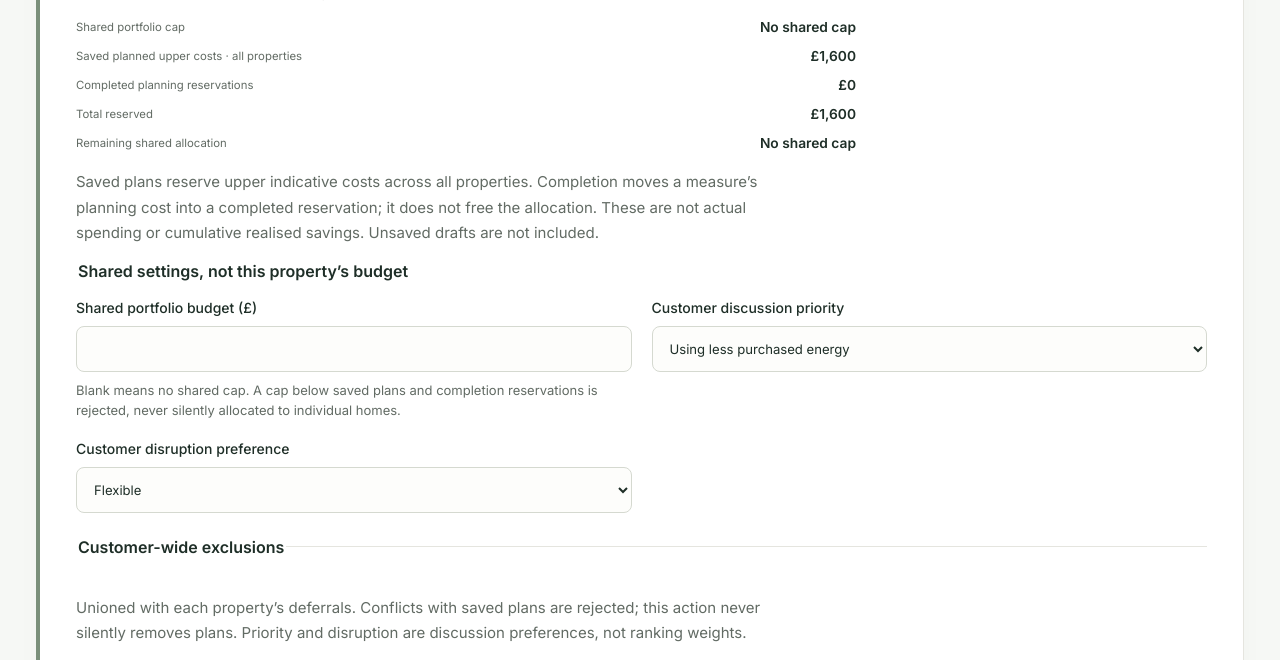
Test: customer-wide settings, independent budgets and asynchronous boundaries › saves customer preferences separately, inherits exclusions without changing raw property budgets
This screenshot has width=1280, height=660.
(page scrolled)
In the number field labelled "Shared portfolio budget (£)": (354, 348) [76,326,632,372], type "25000"
(page scrolled)
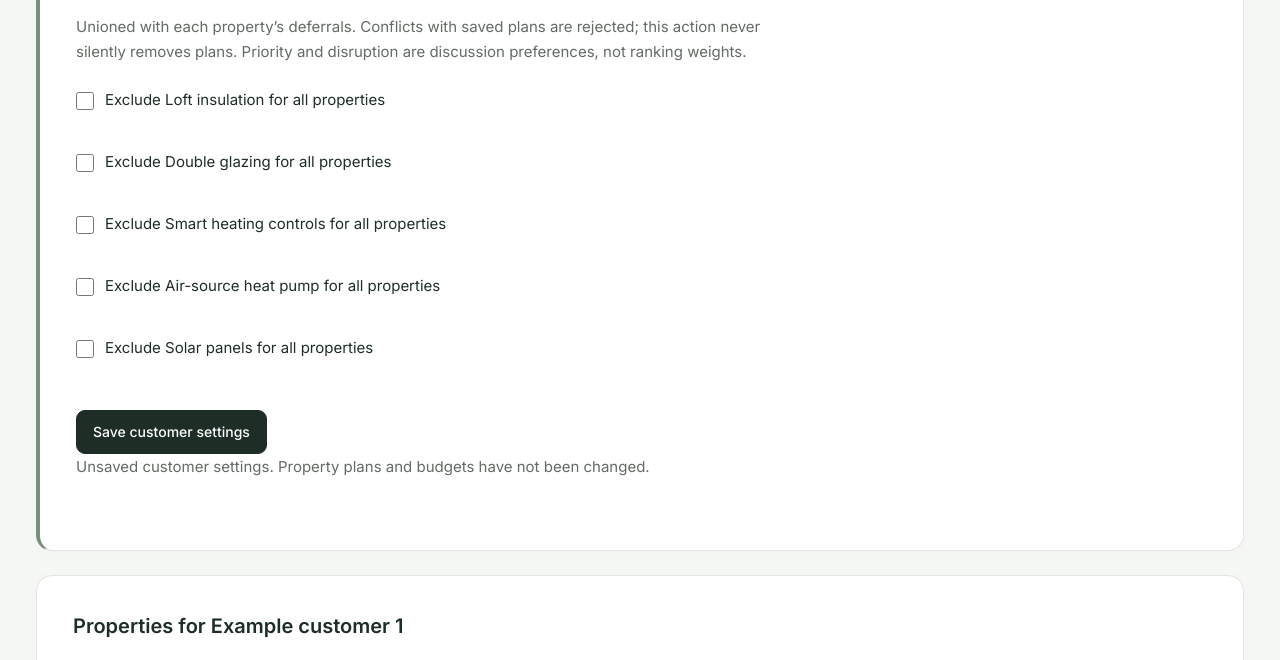
Click the checkbox labelled "Exclude Solar panels for all properties": (85, 349) [76,340,94,358]
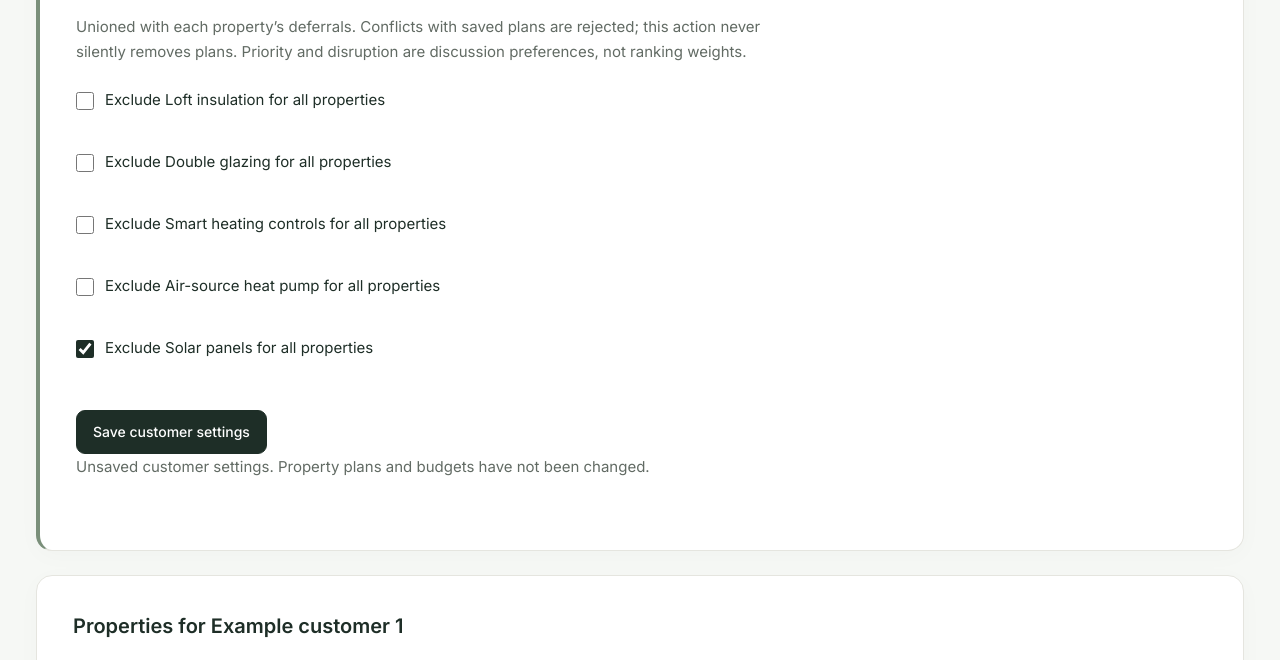
Click the button "Save customer settings": (171, 432) [76,410,267,454]
(page scrolled)
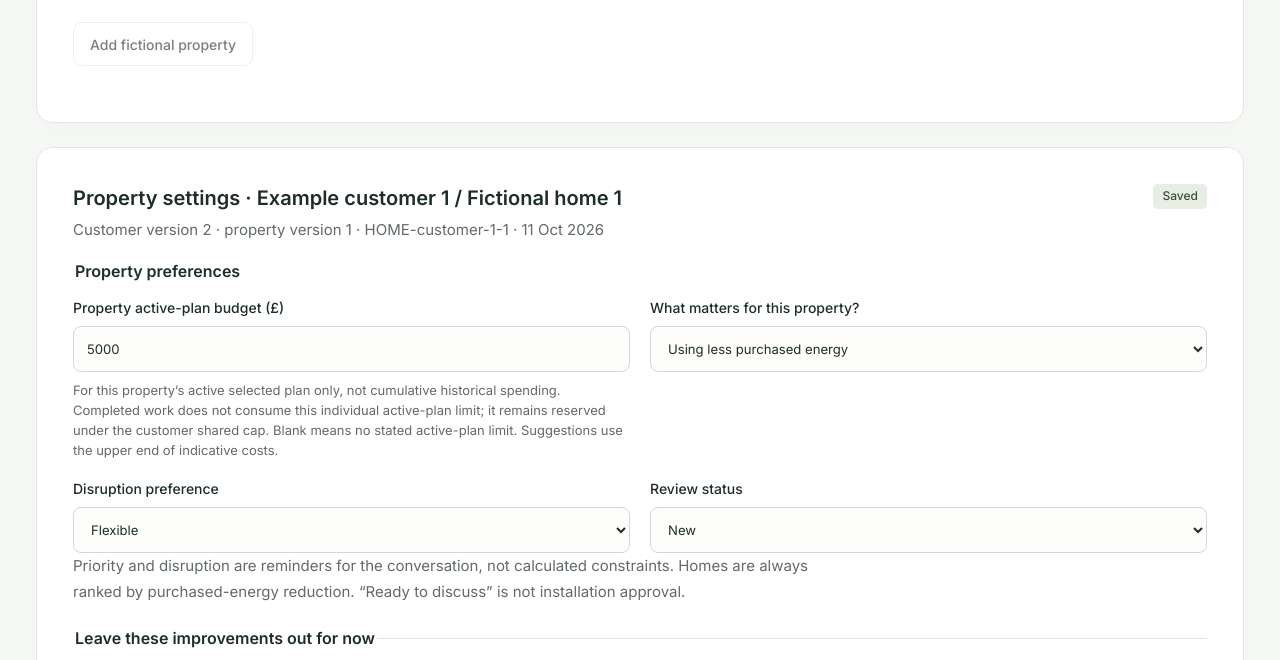
Replace the text in the number field labelled "Property active-plan budget (£)" with "6000": (352, 348) [73,326,630,372]
(page scrolled)
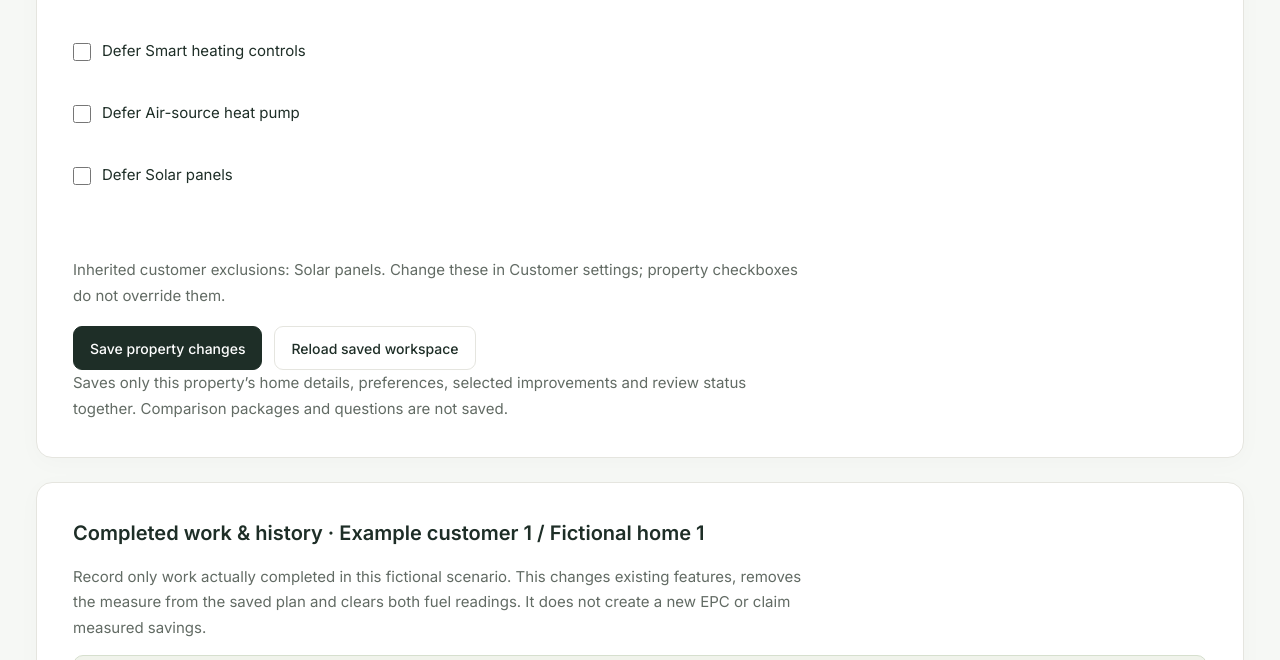
Click the button "Save property changes": (168, 348) [73,326,262,370]
(page scrolled)
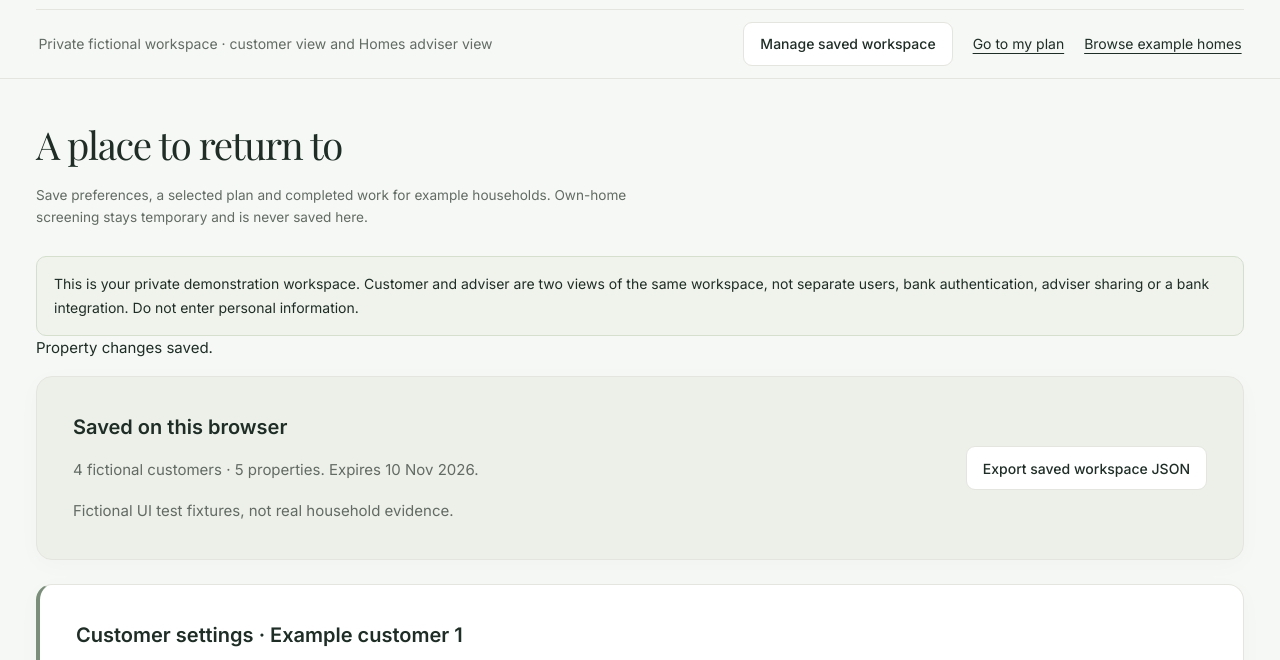
Expected: the text "Property changes saved." is shown, [36,338,213,357]
